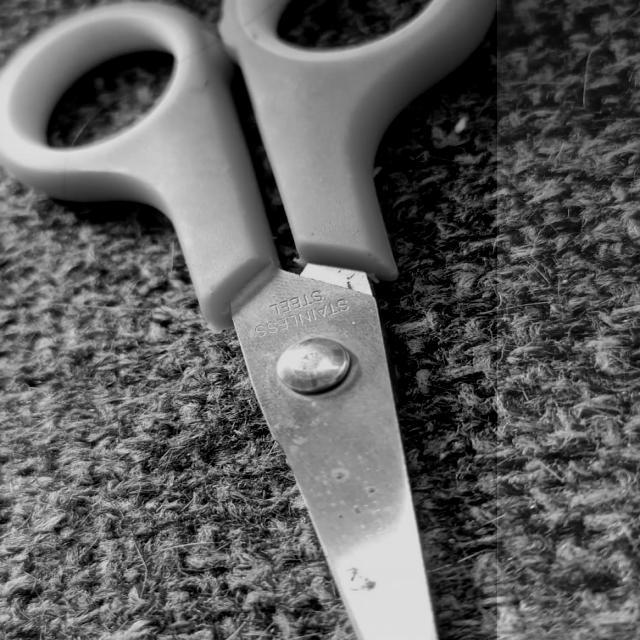tesoura: (0, 0, 497, 639)
